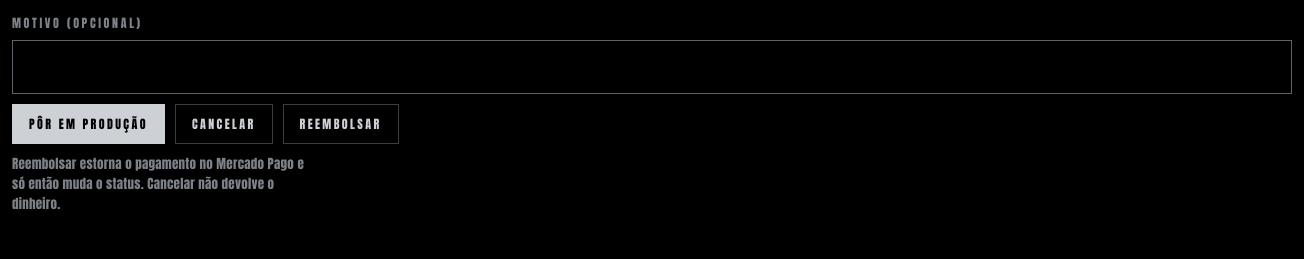
Scenario: admin de pedidos (#130) › erro mantem o motivo digitado
This screenshot has width=1304, height=259.
In the field labelled "Motivo (opcional)": (652, 67) [12, 40, 1292, 94], type "cliente pediu por e-mail"
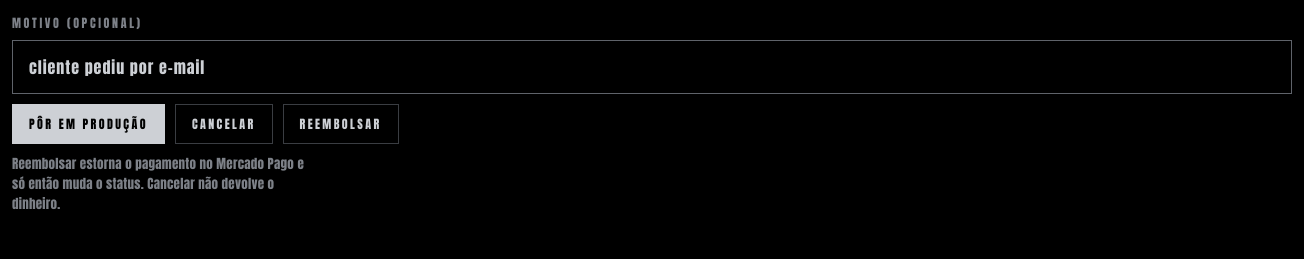
Submit the form
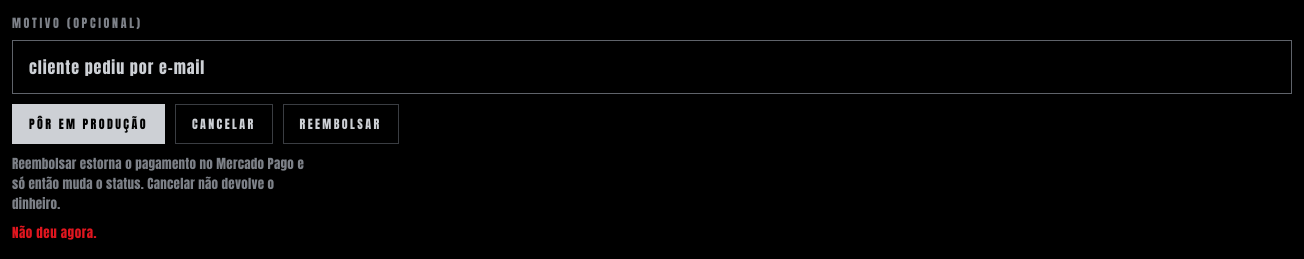
Check: the message "Não deu agora." is shown, box [12, 223, 97, 242]
